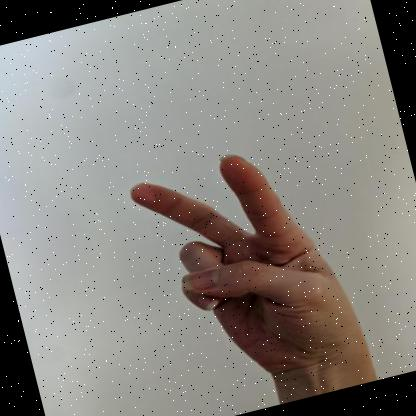V: (130, 154, 370, 377)
